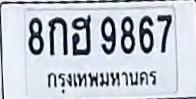6: (139, 15, 154, 53)
7: (156, 14, 172, 53)
8: (28, 16, 44, 54), (120, 15, 134, 53)
9: (100, 16, 115, 54)
A01: (48, 16, 67, 55)
A44: (71, 15, 91, 54)
BKK: (42, 68, 159, 94)
